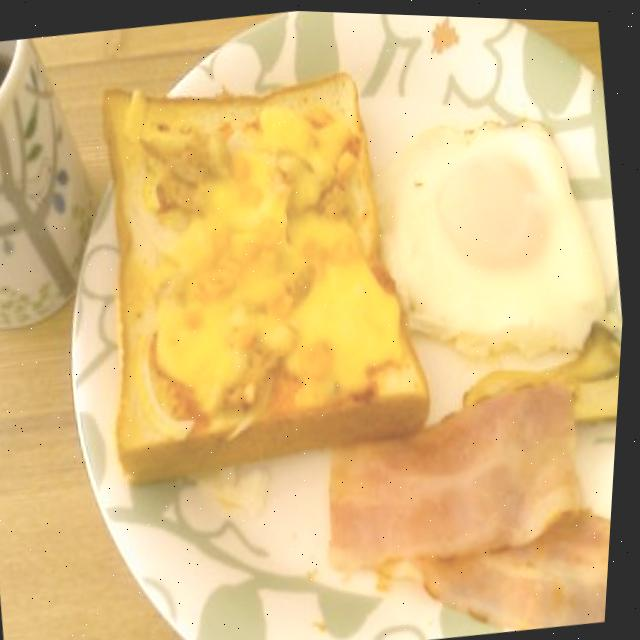面包点心: (41, 26, 463, 507)
